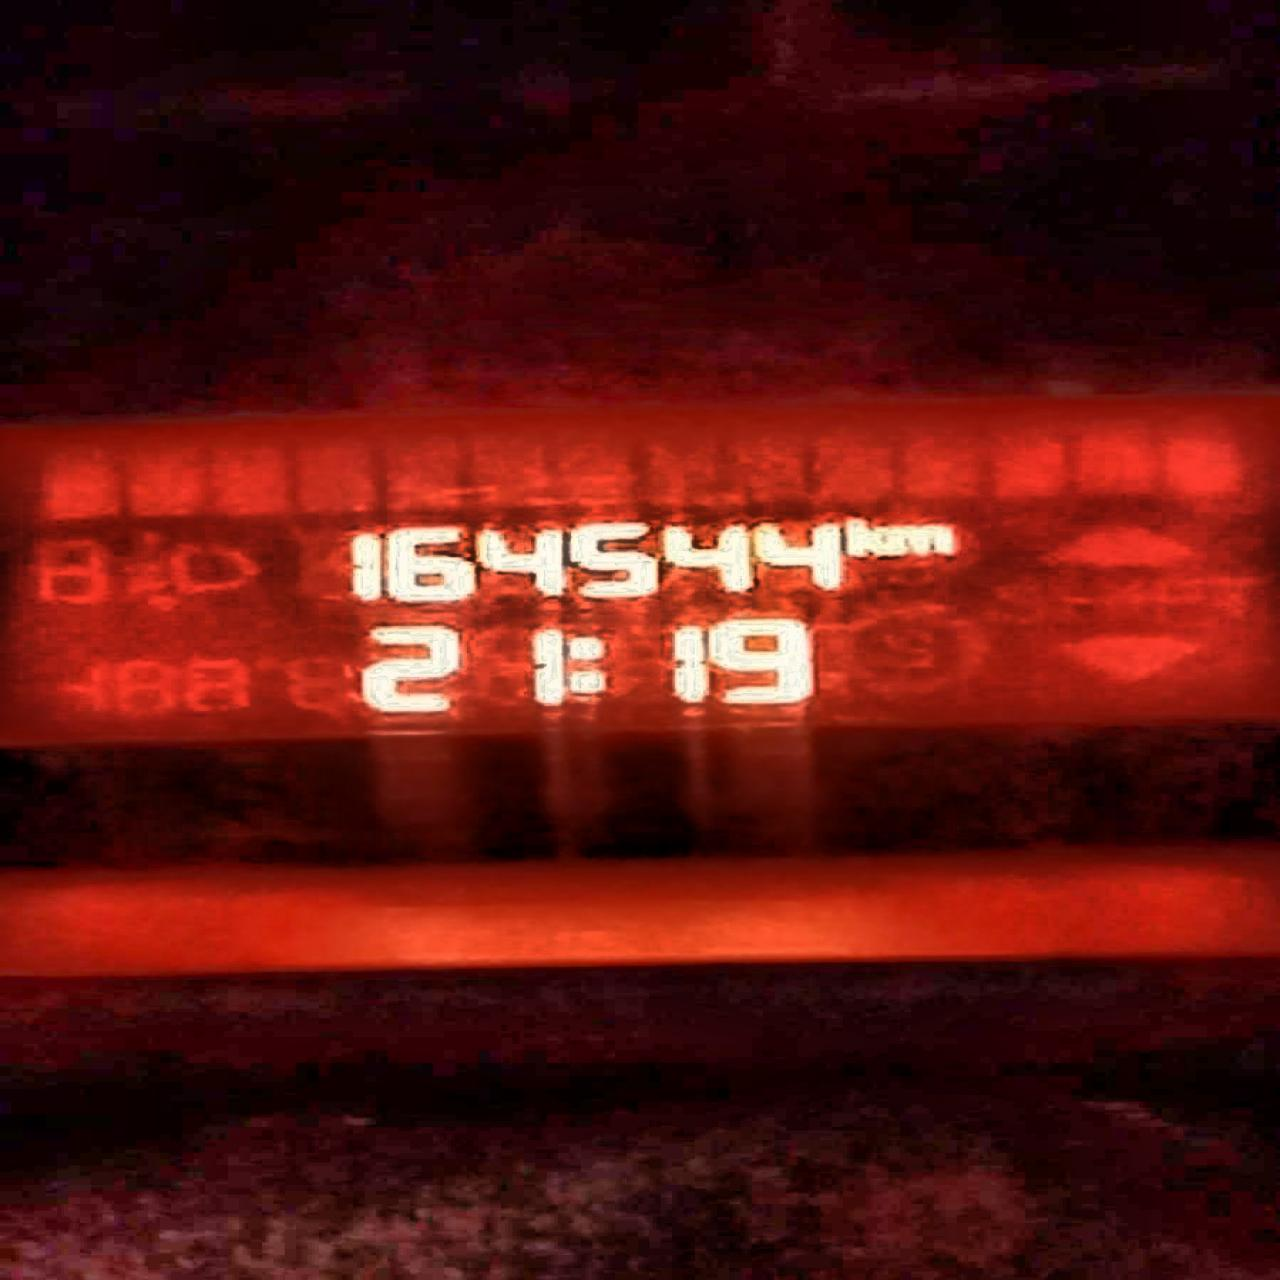1: (665, 625, 704, 703), (525, 627, 565, 706), (347, 529, 383, 601)
2: (361, 621, 463, 713)
4: (750, 520, 842, 593), (474, 525, 565, 597), (659, 522, 751, 592)
5: (565, 519, 661, 599)
6: (383, 524, 471, 602)
9: (708, 614, 817, 706)
X: (565, 634, 610, 696), (885, 522, 955, 557), (843, 516, 887, 557)
odometer: (238, 492, 1007, 723)
